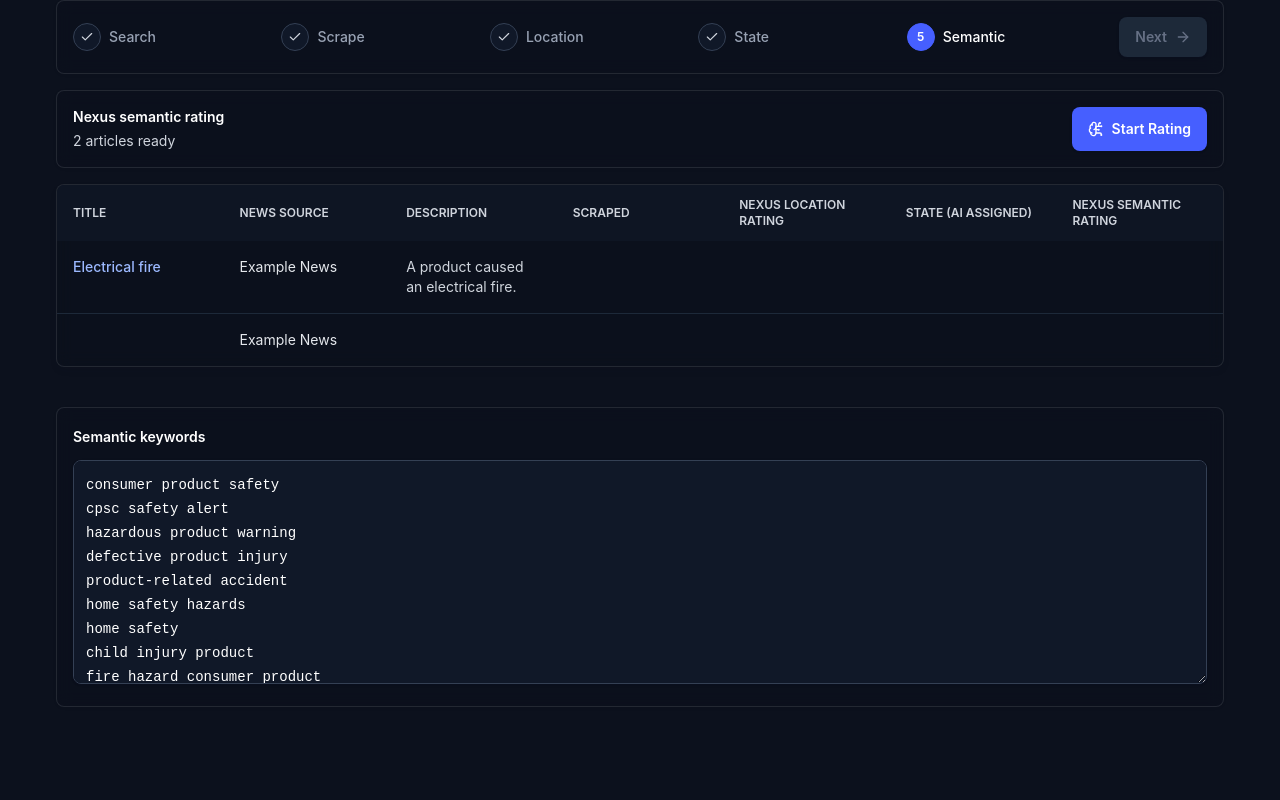
Test: SemanticBar › rates articles, marks skipped rows N/A, and disables rerun after completion
The image size is (1280, 800).
Click the button "Start Rating": (1139,129) [1072, 107, 1207, 151]
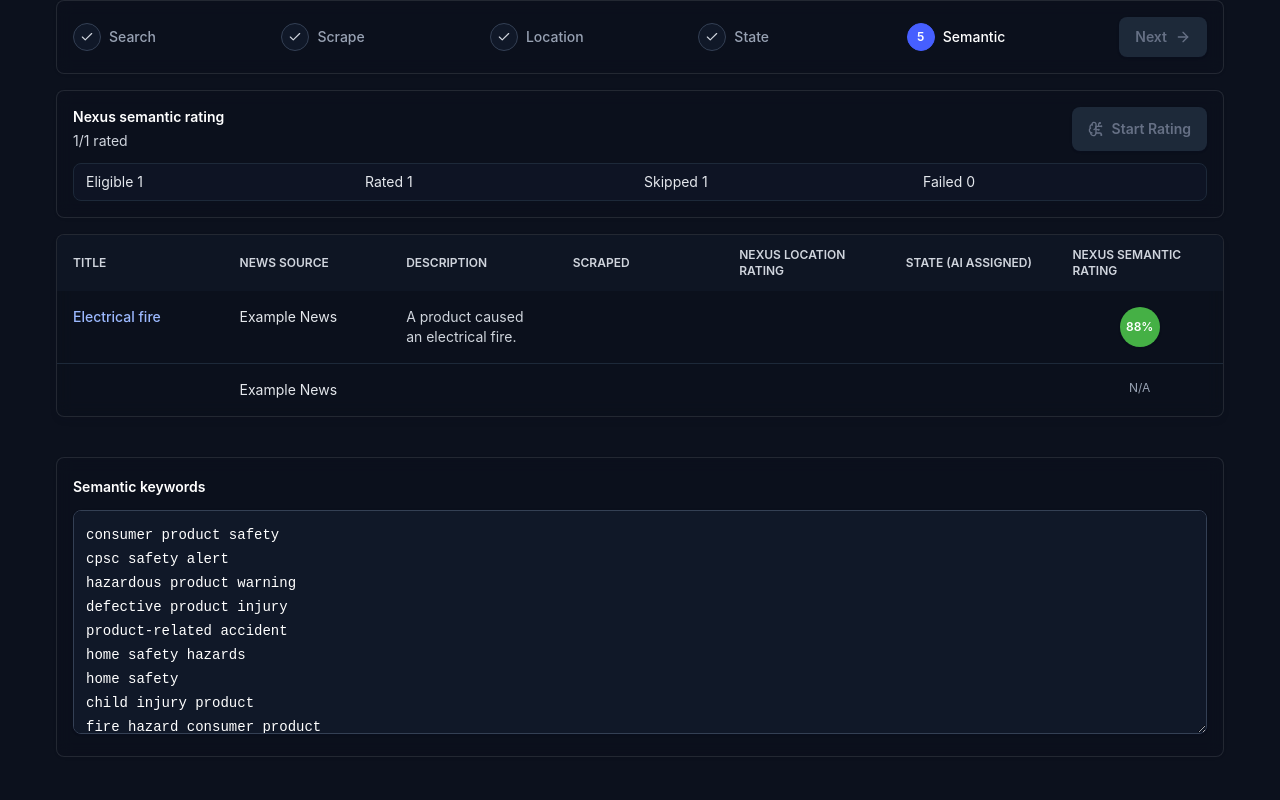
Now the text "88%" is shown, box [1120, 307, 1160, 347]
Now the text "N/A" is shown, box [1129, 380, 1150, 395]
Now the button "Start Rating" is disabled, box [1072, 107, 1207, 151]
